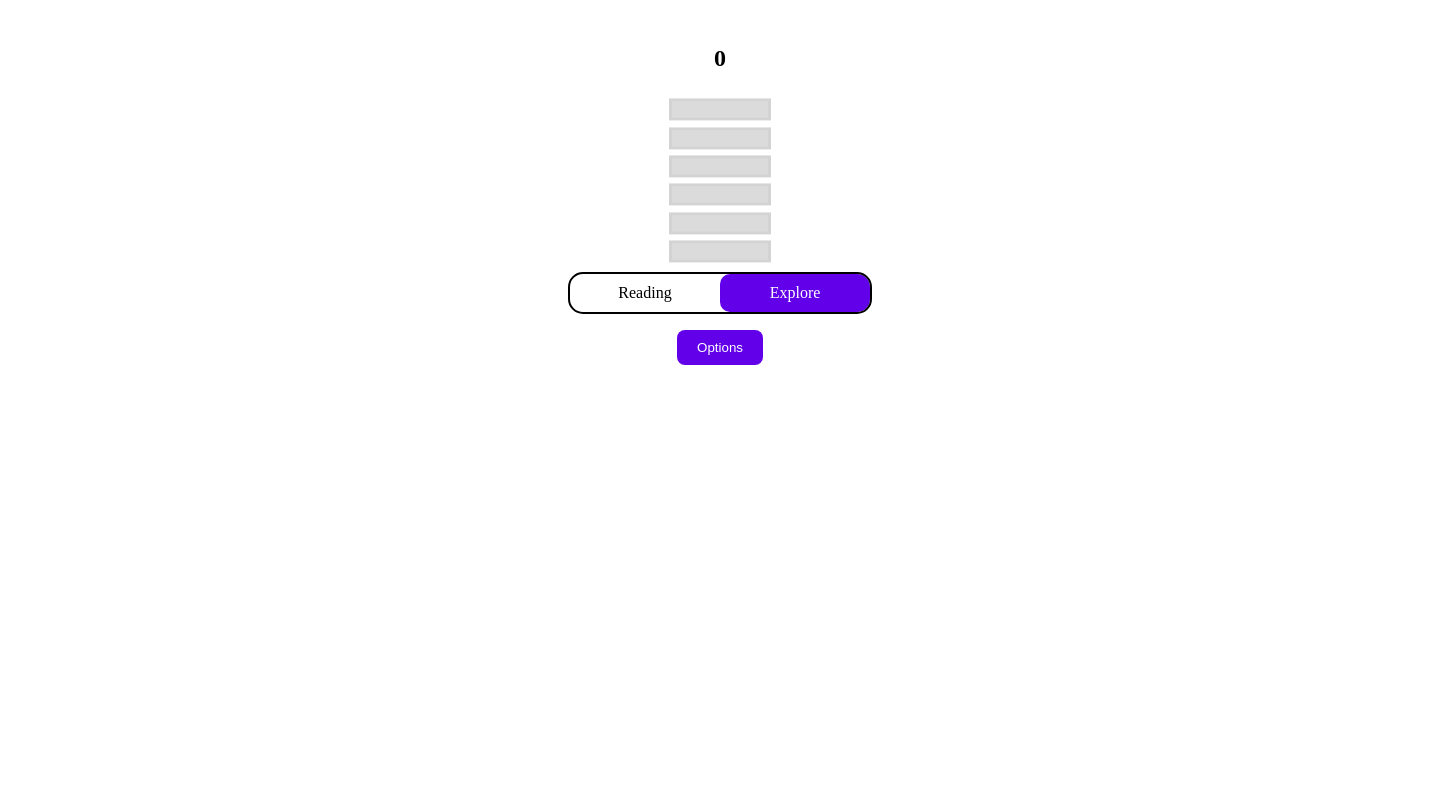
Test: Clicking each of the 6 lines, should yield hexagram 2
The width and height of the screenshot is (1440, 810).
Click the element with class "line1" at {"x": 720, "y": 252}, box [669,241,771,263]
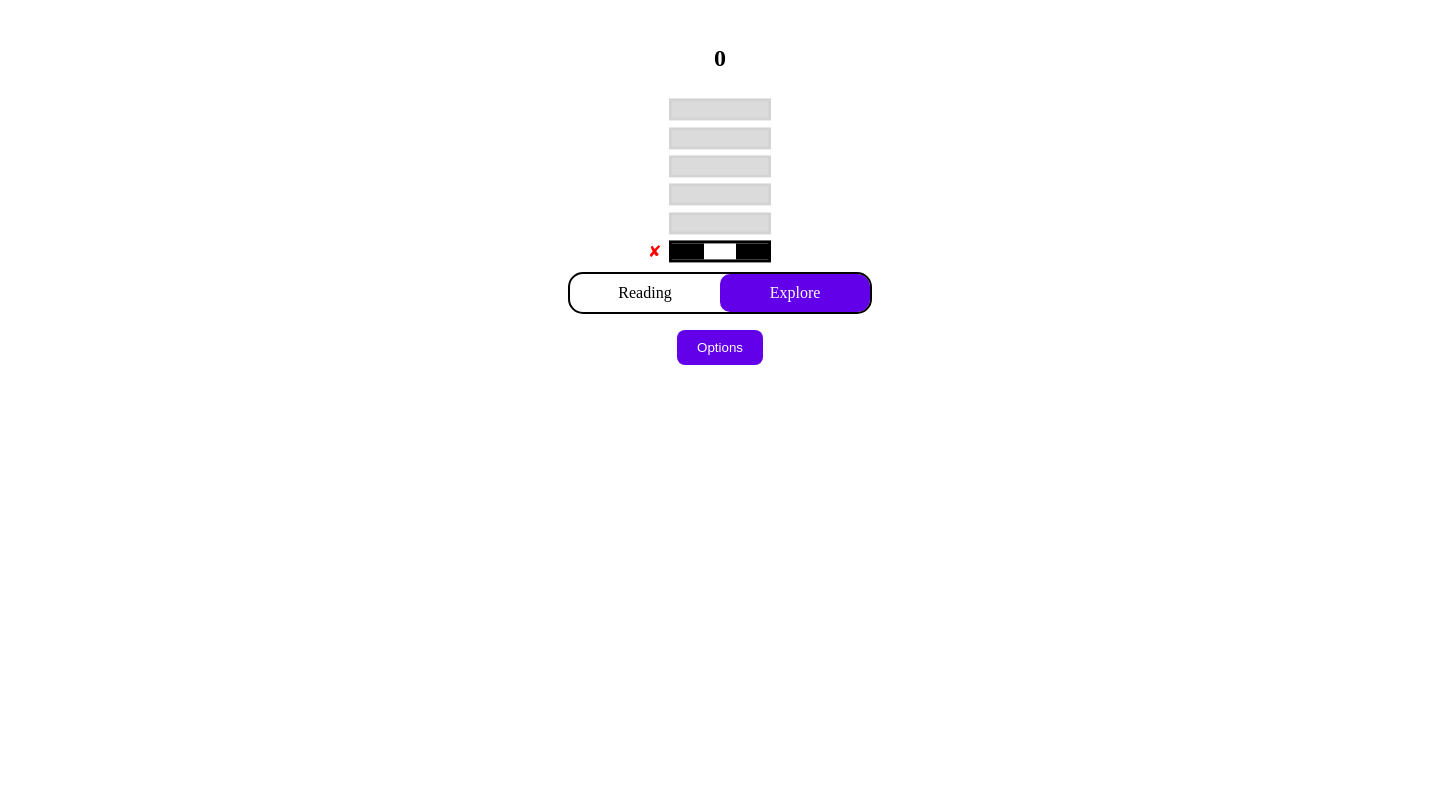
Click the element with class "line2" at {"x": 720, "y": 223}, box [669,212,771,234]
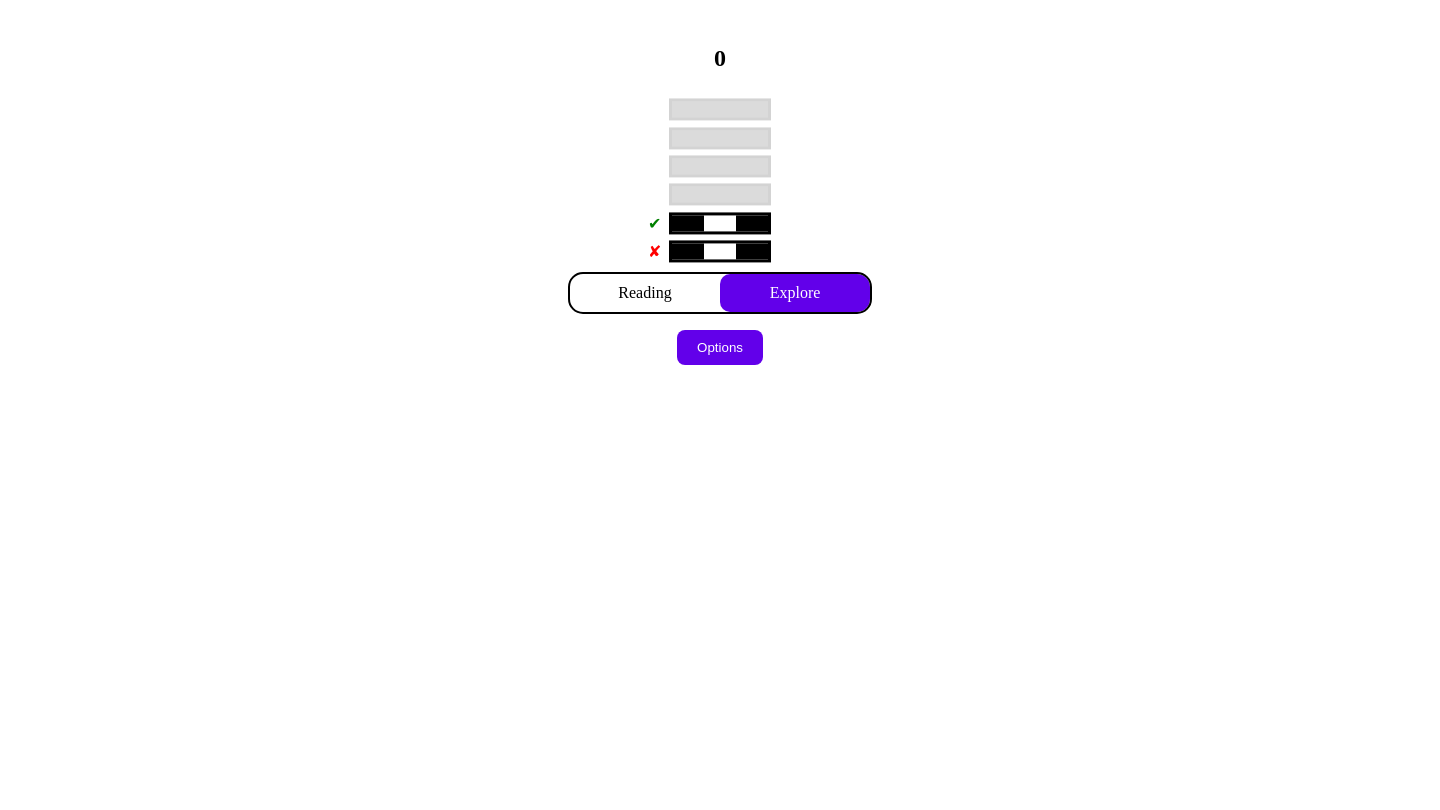
Click the element with class "line3" at {"x": 720, "y": 195}, box [669,184,771,206]
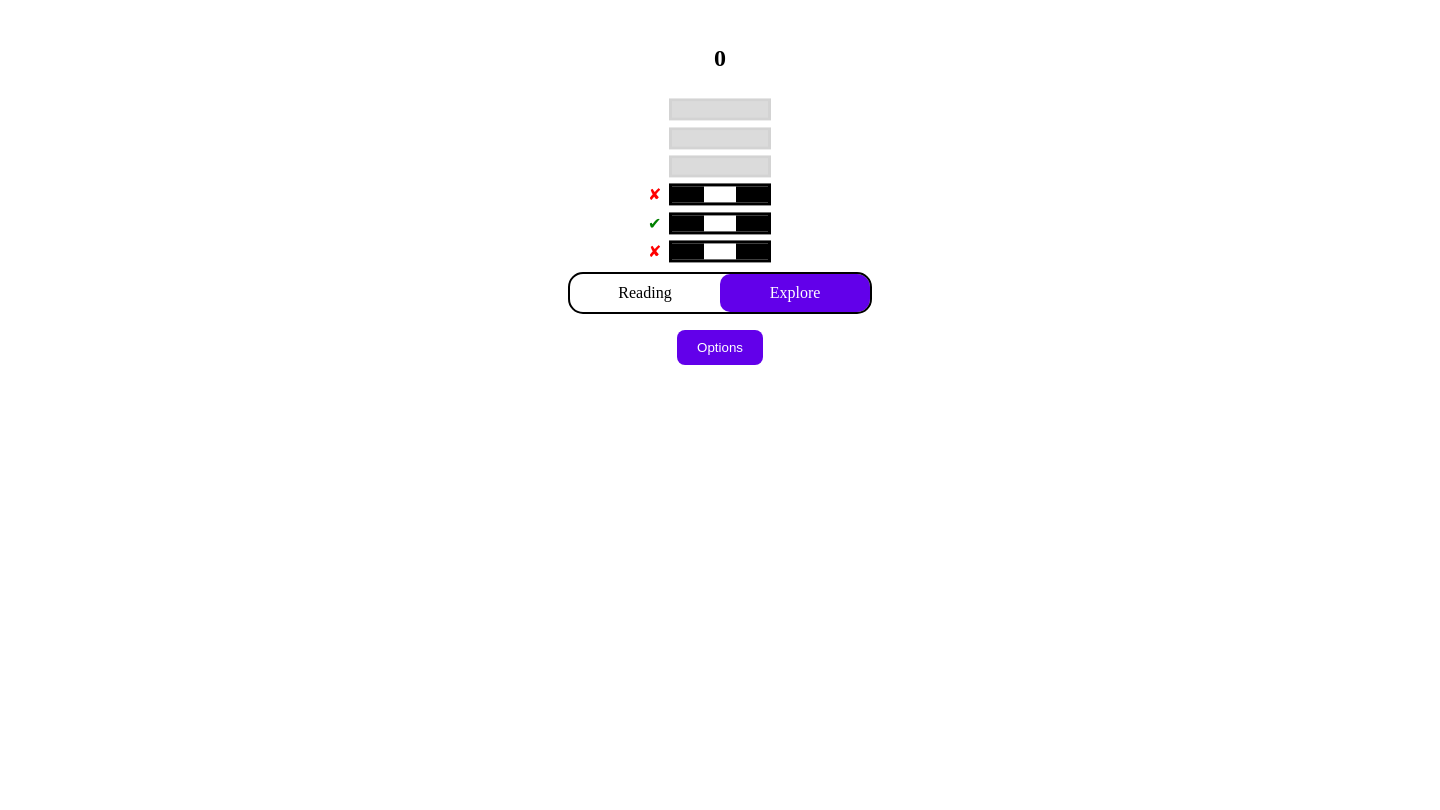
Click the element with class "line4" at {"x": 720, "y": 166}, box [669,155,771,177]
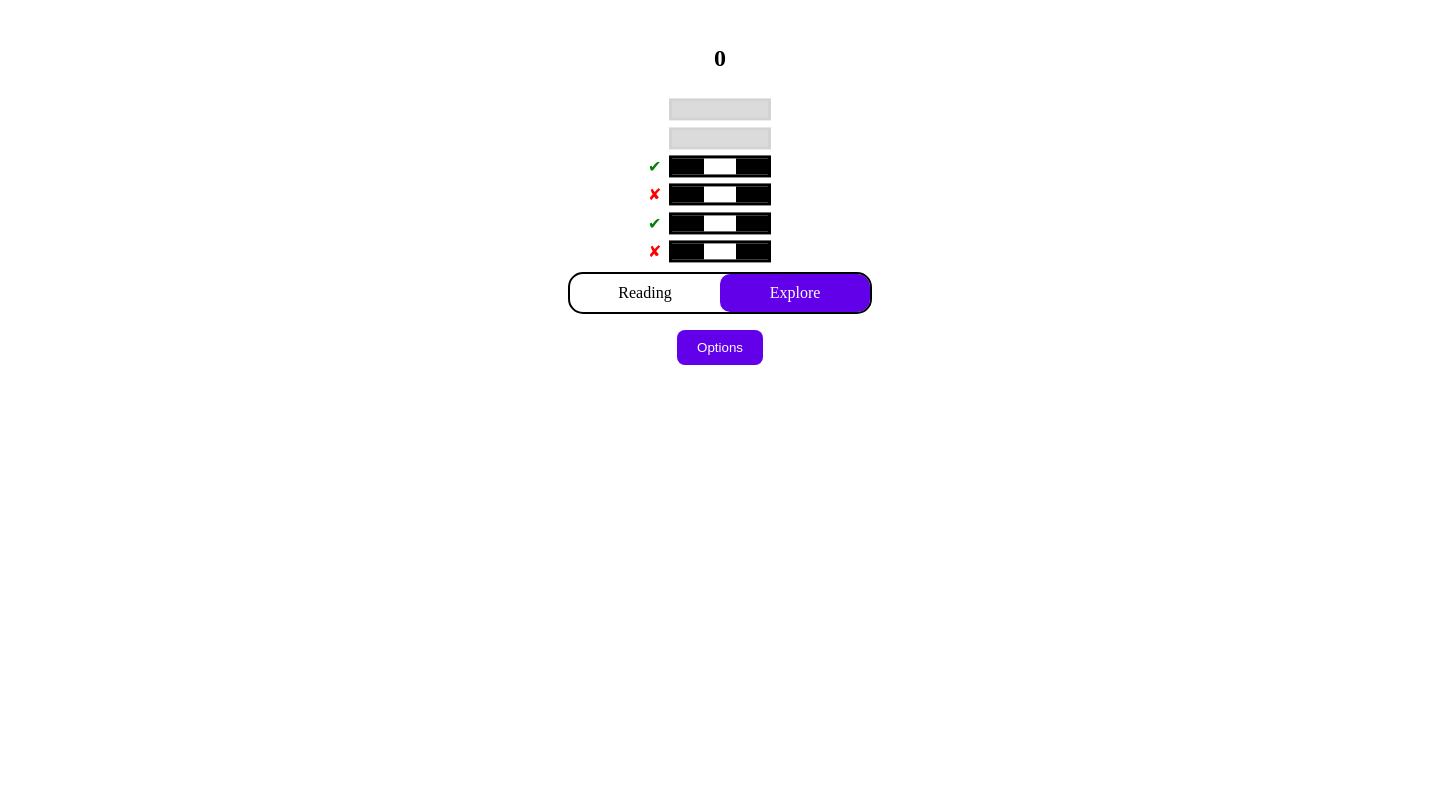
Click the element with class "line5" at {"x": 720, "y": 138}, box [669,127,771,149]
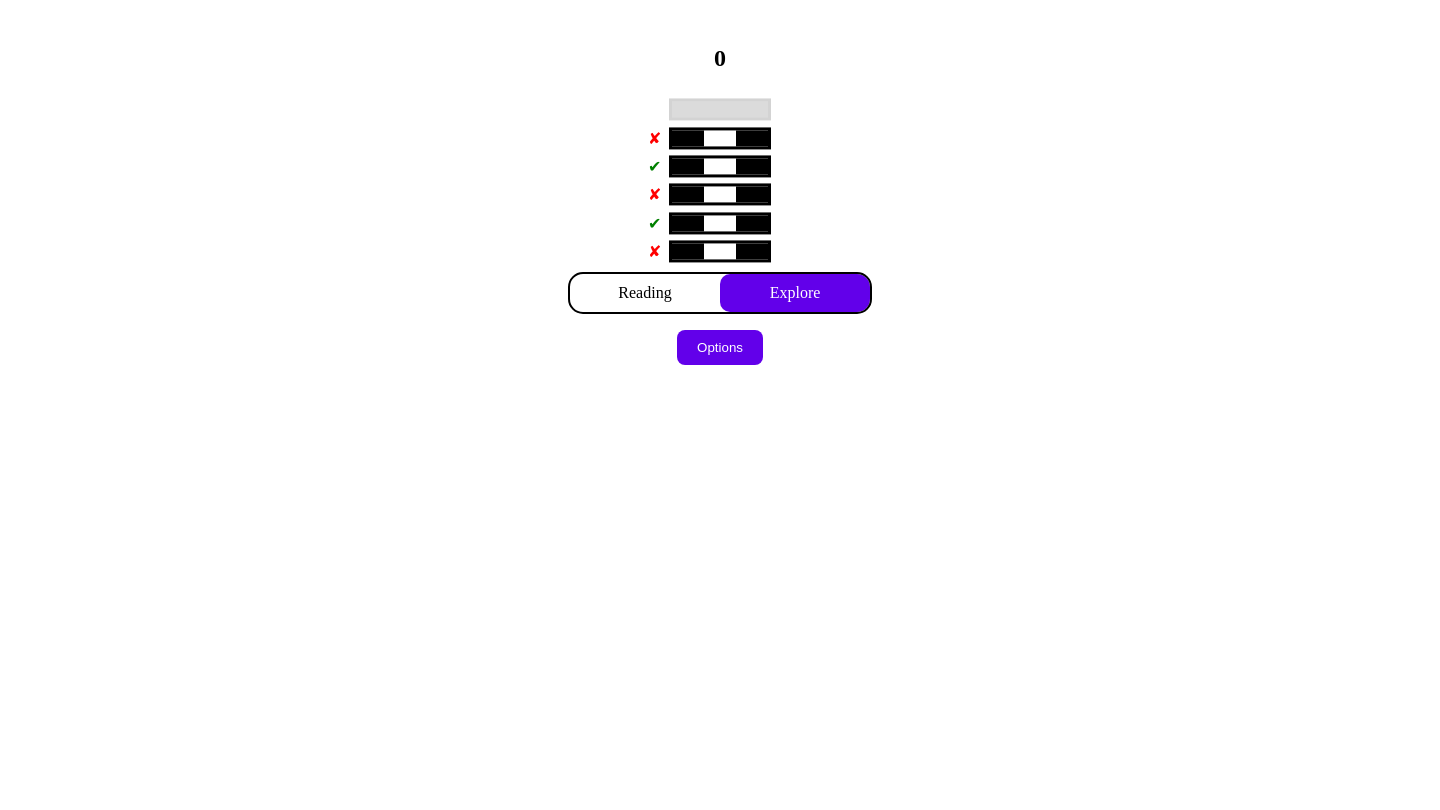
Click the element with class "line6" at {"x": 720, "y": 110}, box [669,99,771,121]
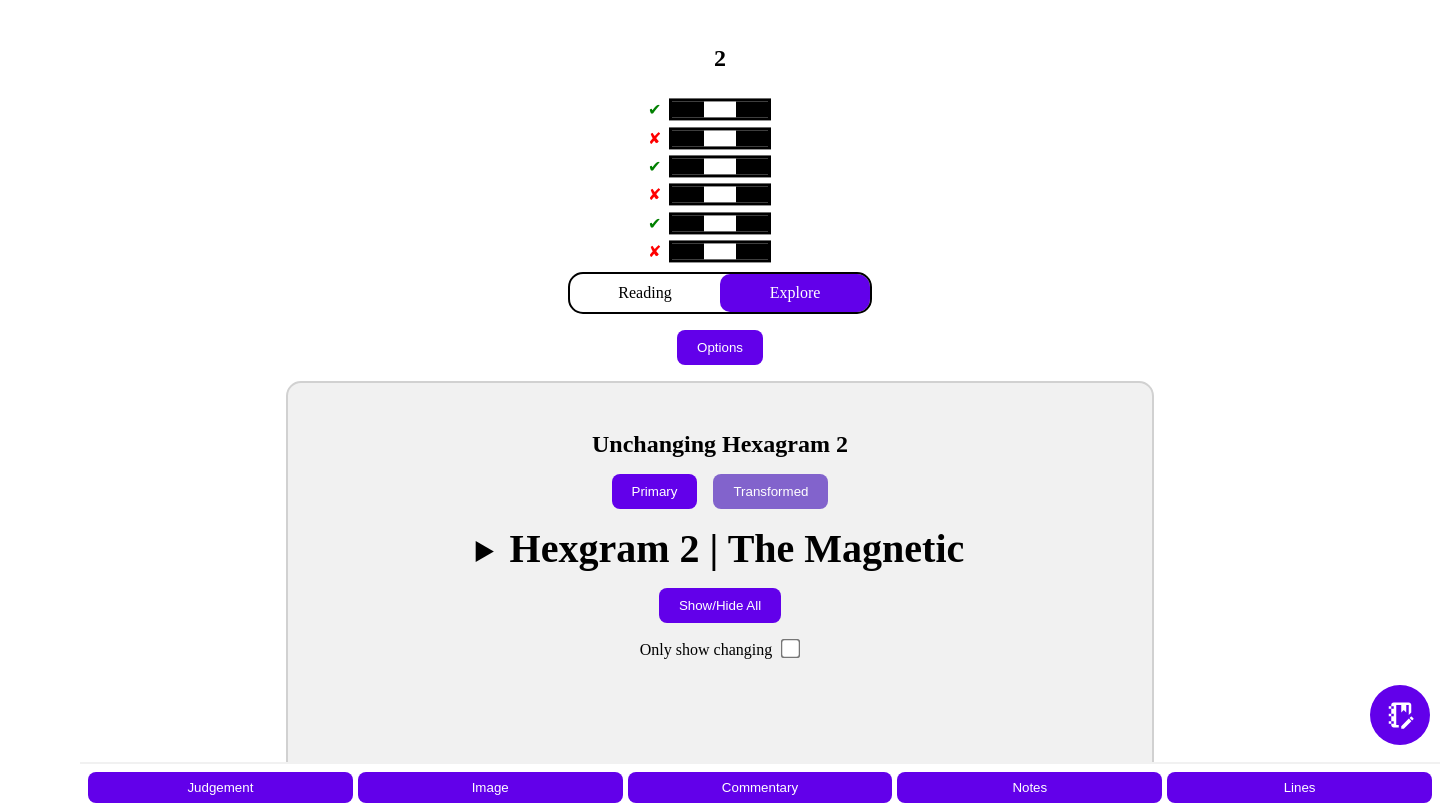
Now the heading "Unchanging Hexagram 2" is shown, box [592,431,848,457]
